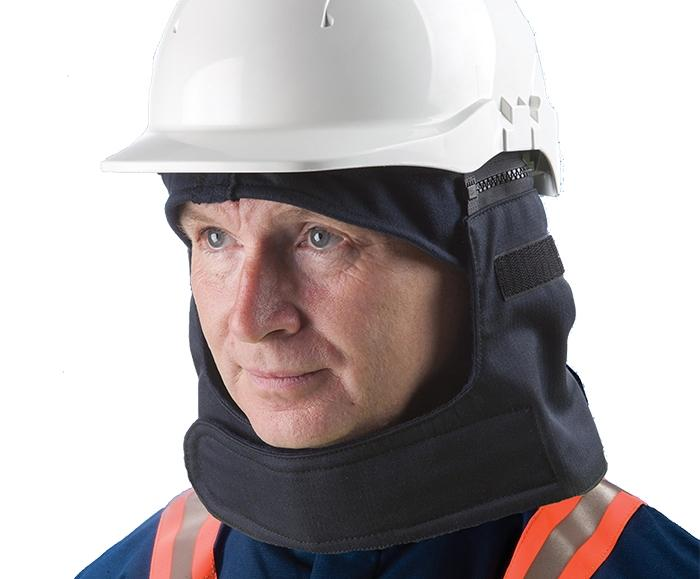helmet: (92, 0, 569, 199)
